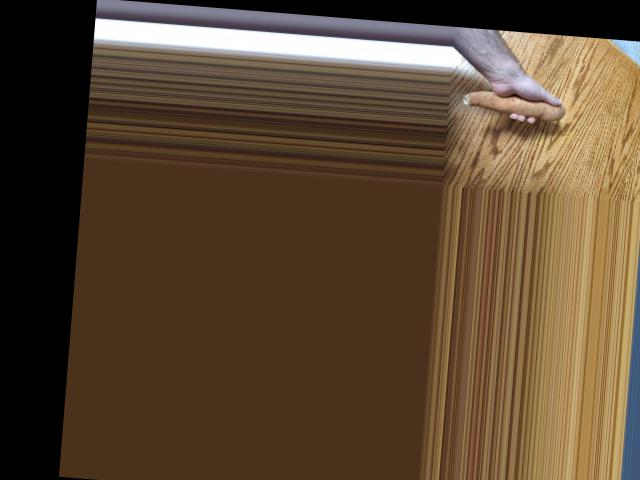sweet_potato: (458, 81, 567, 123)
